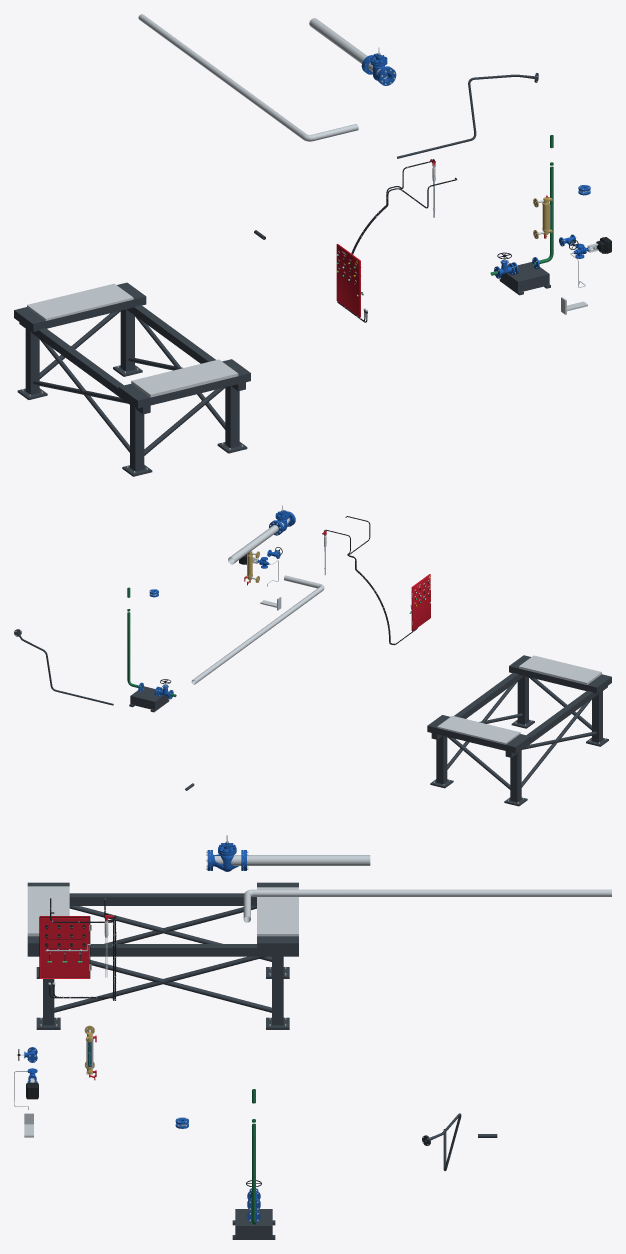
The picture shows the model from 3 angles, top to bottom: view 1: azimuth 30°, elevation 25°; view 2: azimuth 150°, elevation 25°; view 3: azimuth 270°, elevation 25°; orthographic projection. The views are drawn at different scales.
Visible parts, largest first — view 1: deaerator_support / dark, deaerator_support / steel, safety_vent_1 / steel, cabinet_door / cabinet_door_5.npz, pump_branch_2 / dark, steam_delivery / steel, tds_without_fv / dark; view 2: deaerator_support / dark, deaerator_support / steel, safety_vent_1 / steel, cabinet_door / cabinet_door_5.npz, pump_branch_2 / dark, steam_delivery / steel; view 3: deaerator_support / dark, deaerator_support / steel, cabinet_door / cabinet_door_5.npz, safety_vent_1 / steel, steam_delivery / steel, pump_branch_2 / dark, gpz CAD solid 0.
Boxes of the visible parts, x1,y1,x2,y2 form: deaerator_support / dark: (14, 282, 250, 476); deaerator_support / steel: (22, 283, 242, 472); safety_vent_1 / steel: (138, 14, 358, 141); cabinet_door / cabinet_door_5.npz: (336, 244, 361, 317); pump_branch_2 / dark: (499, 262, 550, 295); steam_delivery / steel: (309, 18, 367, 63); tds_without_fv / dark: (397, 73, 538, 158); deaerator_support / dark: (427, 655, 611, 806); deaerator_support / steel: (433, 655, 605, 803); safety_vent_1 / steel: (191, 575, 324, 684); cabinet_door / cabinet_door_5.npz: (411, 574, 430, 631); pump_branch_2 / dark: (129, 686, 169, 712); steam_delivery / steel: (228, 525, 278, 564); deaerator_support / dark: (27, 882, 298, 1029); deaerator_support / steel: (27, 886, 298, 1026); cabinet_door / cabinet_door_5.npz: (39, 916, 91, 978); safety_vent_1 / steel: (243, 889, 611, 922); steam_delivery / steel: (247, 855, 370, 865); pump_branch_2 / dark: (232, 1209, 275, 1239); gpz CAD solid 0: (210, 835, 243, 871).
Size of the model in its own units: 7.74 by 3.6 by 6.26.
